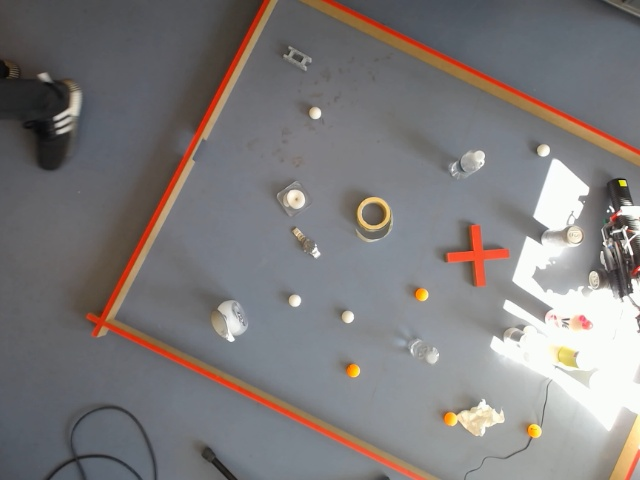orange: (211, 308, 226, 338), (413, 287, 431, 303), (345, 363, 362, 379), (443, 411, 457, 427), (527, 424, 541, 439)
robot: (600, 171, 640, 403)
white: (458, 148, 488, 177), (286, 185, 307, 212), (424, 347, 441, 367), (534, 142, 552, 159), (287, 293, 303, 310), (307, 105, 323, 122), (340, 309, 356, 325), (589, 270, 599, 285)
